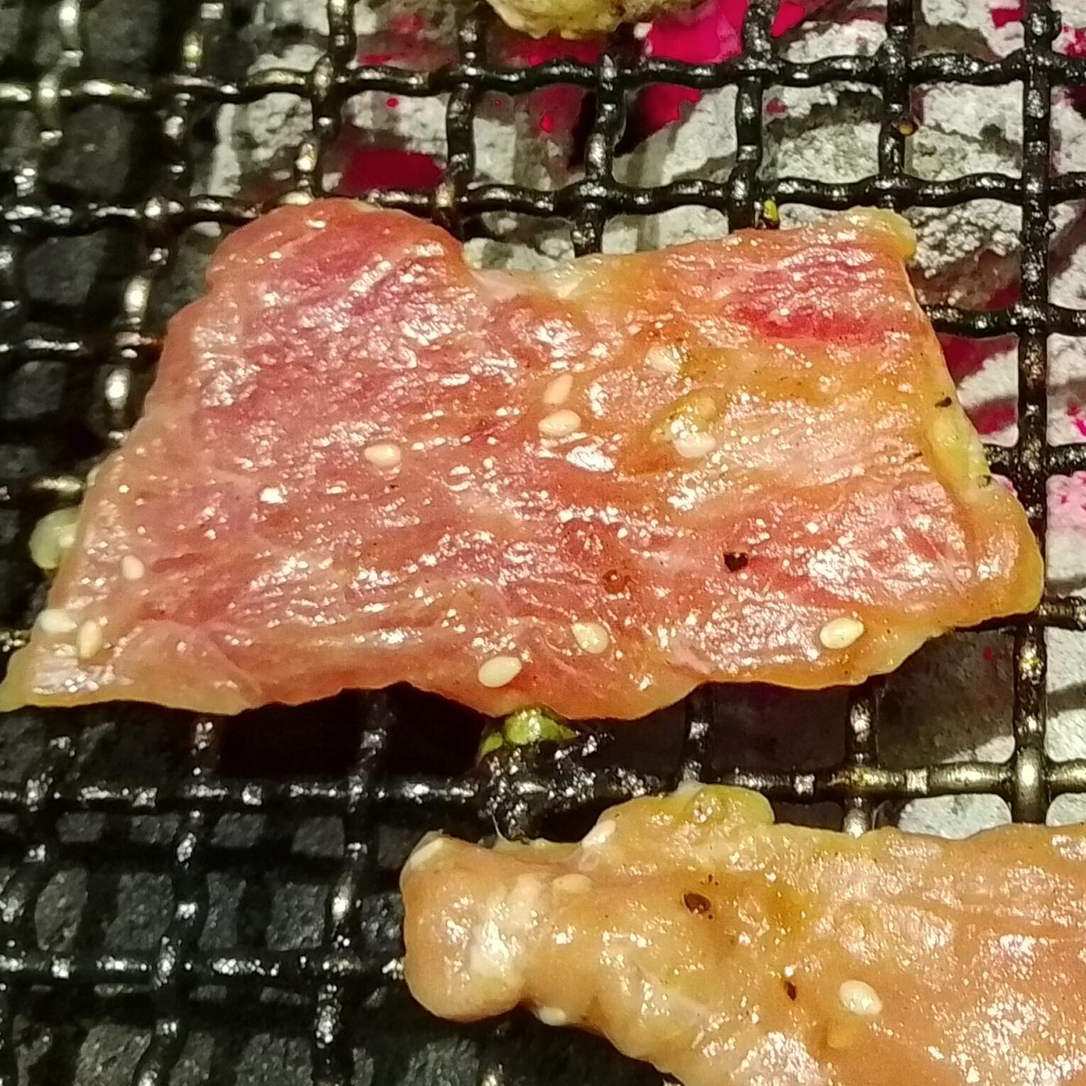Undercooked: (0, 199, 1048, 727), (397, 788, 1085, 1085)
